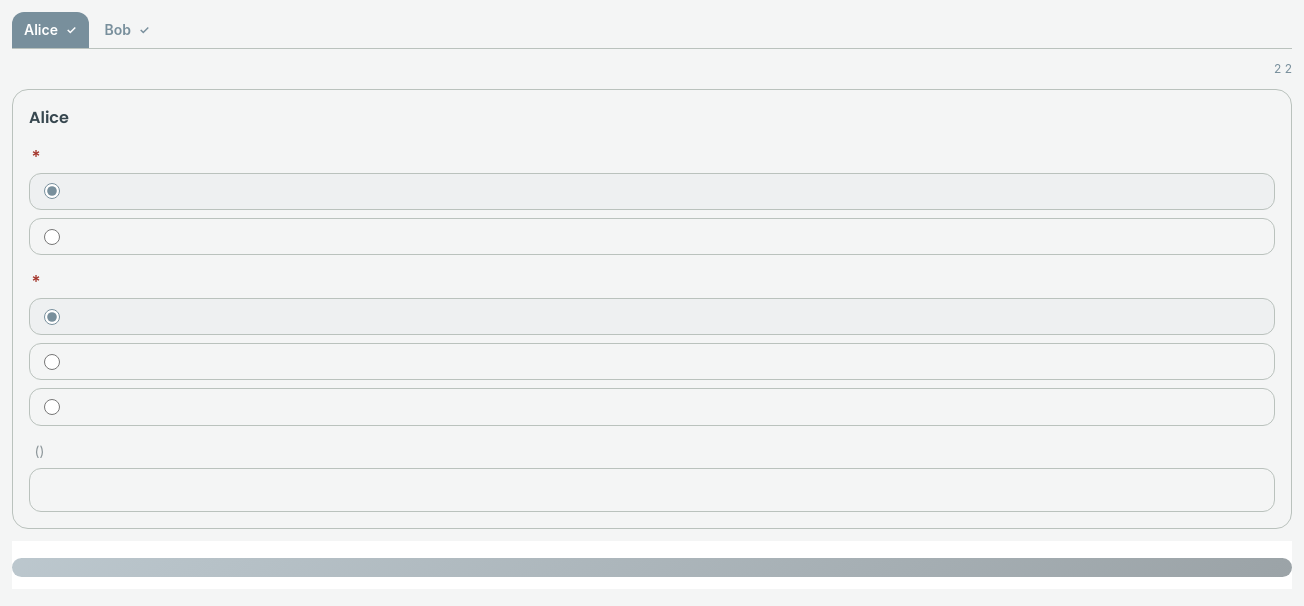
Test: GuestGroupRsvpForm › enables the submit when the answer of a single guest changed
Click the button "Bob ✓".
click(127, 30)  # box [92, 12, 162, 48]
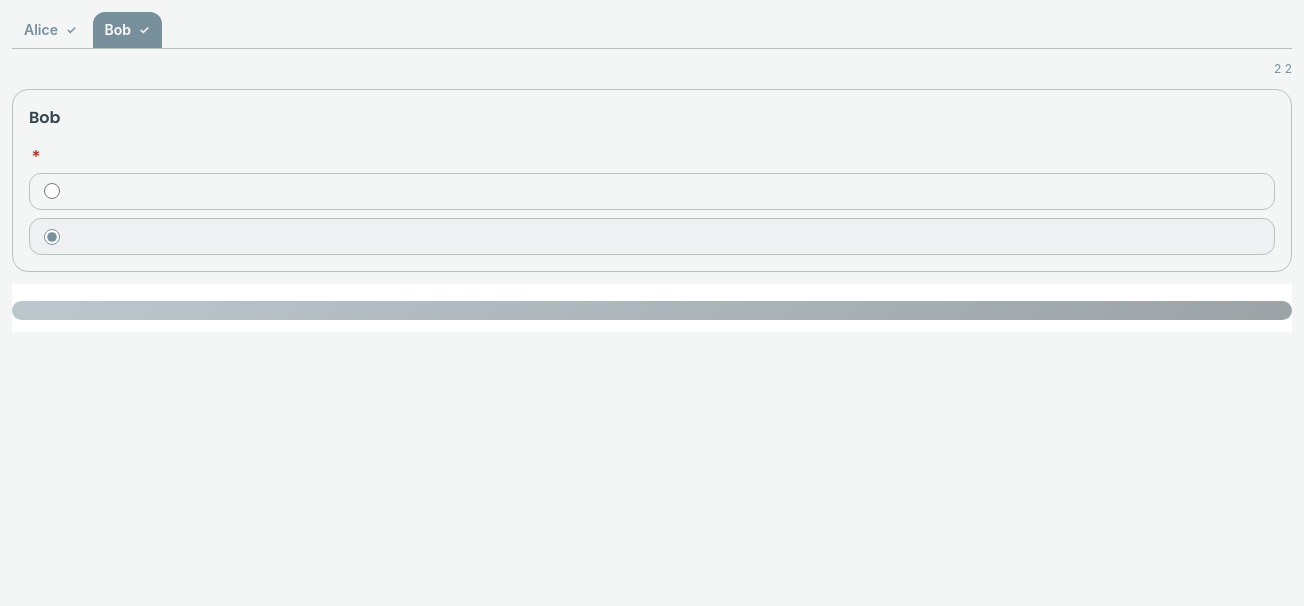
Click the 1st radio button.
click(52, 191)  # box [44, 183, 60, 199]
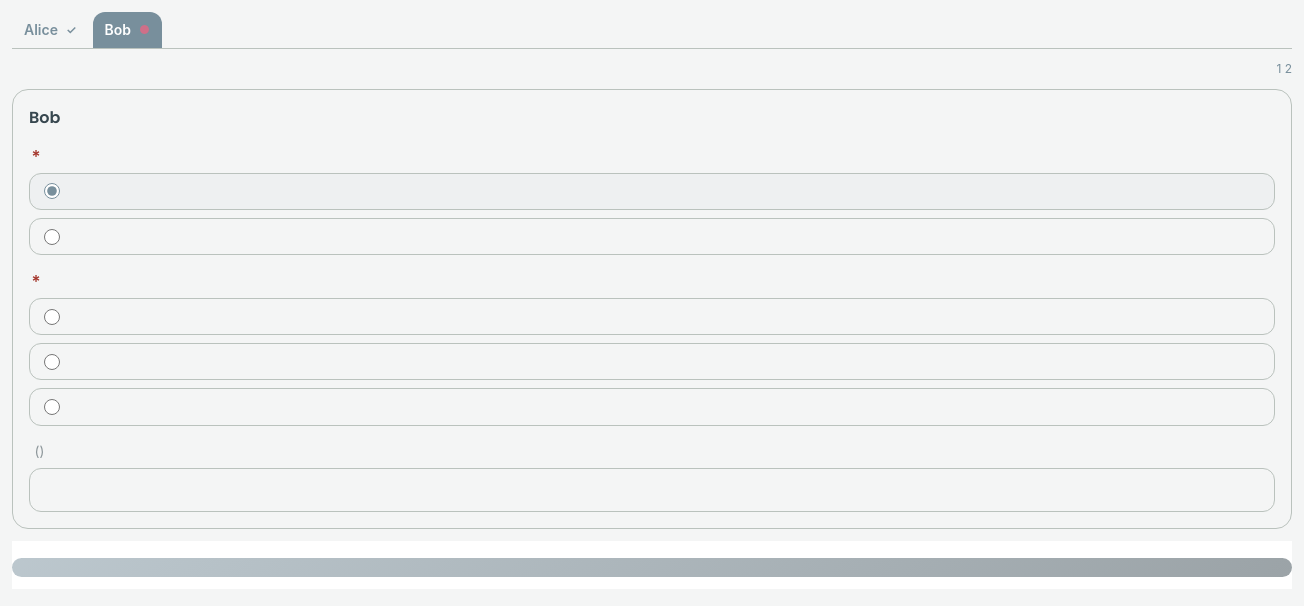
Click the 4th radio button.
click(52, 362)  # box [44, 354, 60, 370]
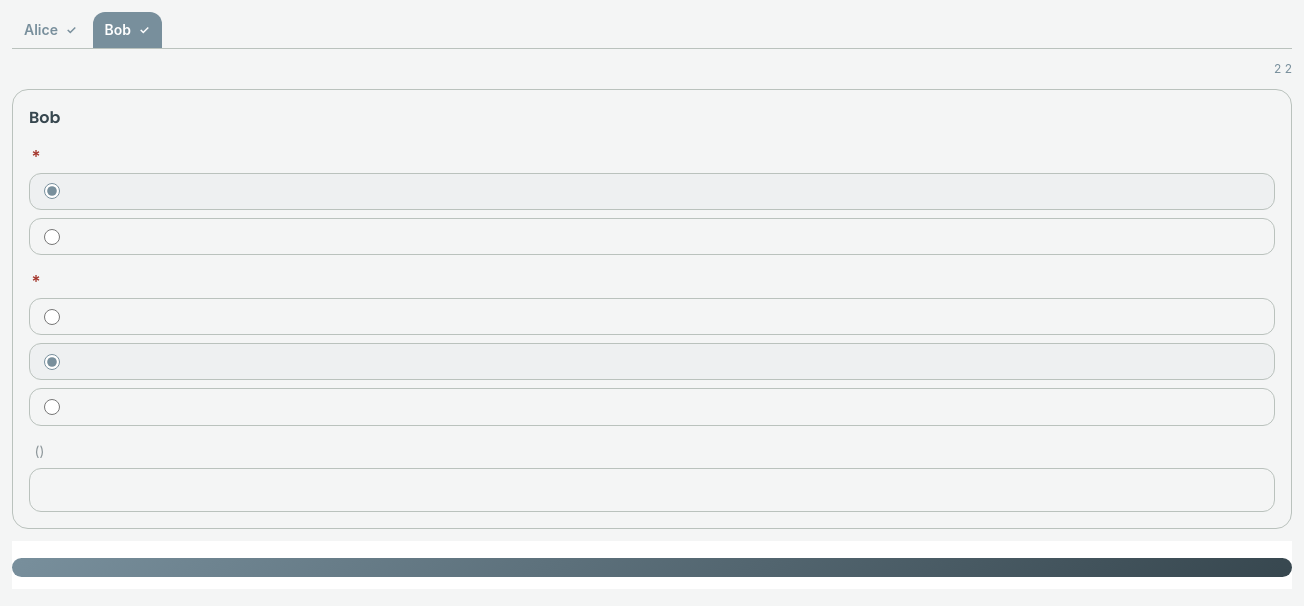
Now the submit button is enabled, box [12, 558, 1292, 577]
